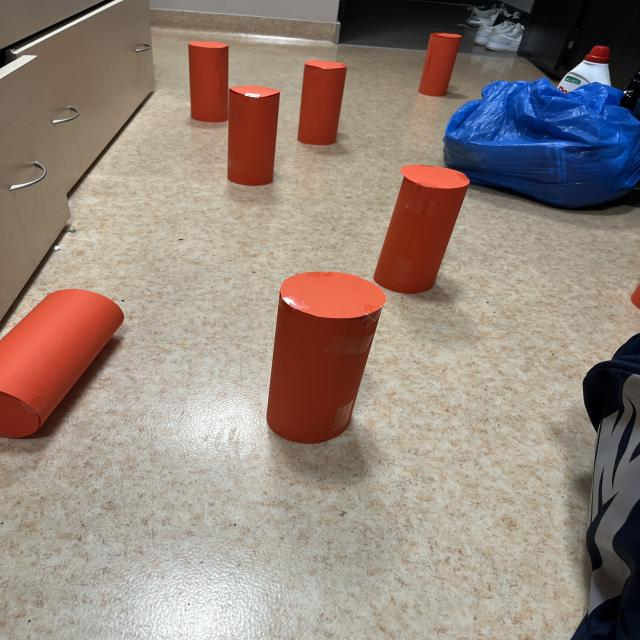przeszkoda: (267, 165, 469, 443), (0, 289, 124, 438), (189, 42, 280, 185), (298, 60, 346, 145), (419, 33, 461, 96)
